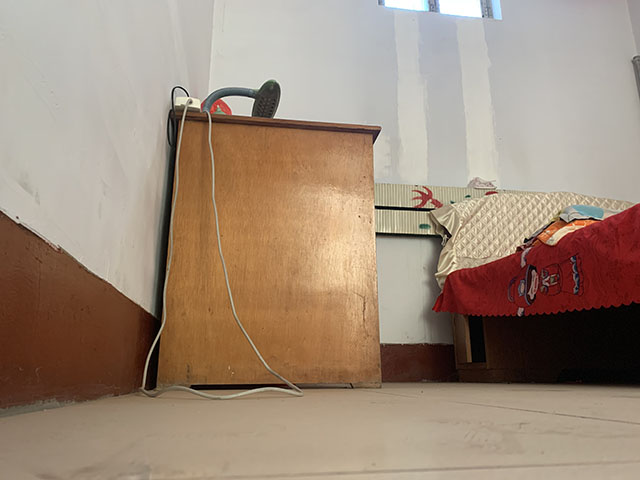bed: (427, 190, 640, 385)
table: (155, 107, 383, 394)
wire: (139, 86, 304, 401)
